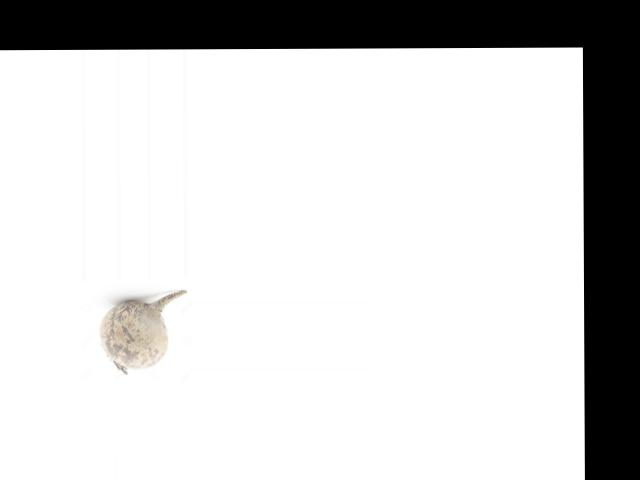beet: (98, 290, 186, 374)
